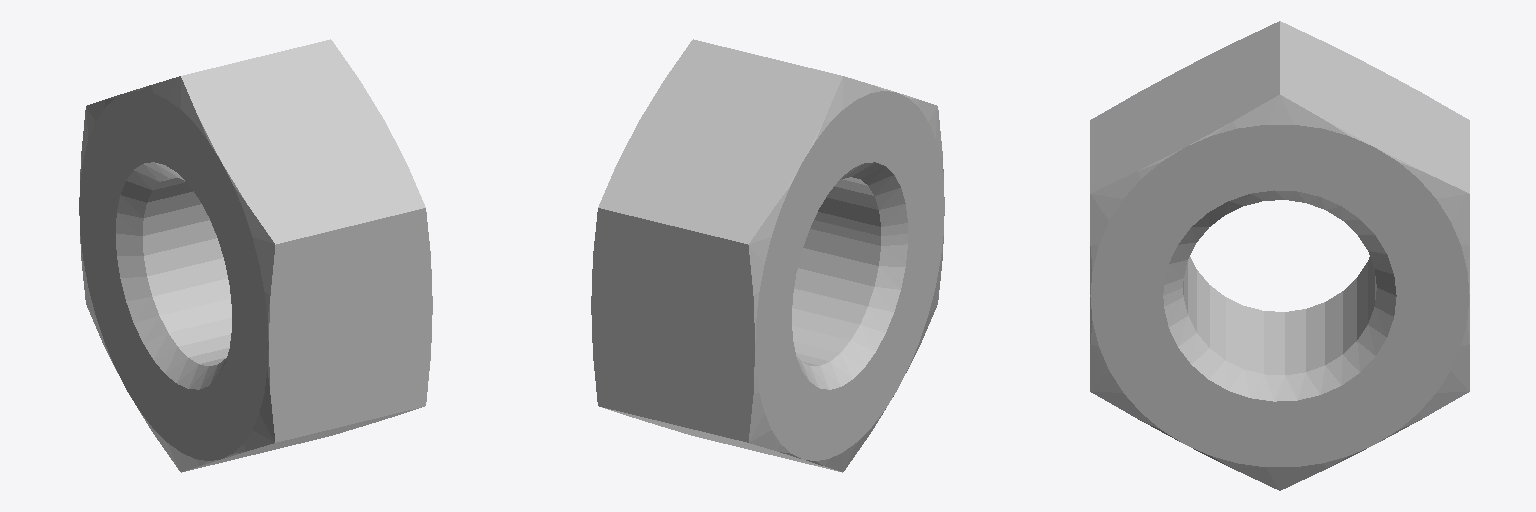
Rendered from Hexagon_nuts_M08.obj.
3 renders of one model, left to right at view 1: azimuth 30°, elevation 25°; view 2: azimuth 150°, elevation 25°; view 3: azimuth 270°, elevation 25°, orthographic.
Visible parts, largest first — view 1: 07210-08_1; view 2: 07210-08_1; view 3: 07210-08_1.
Boxes of the visible parts, box(x1,y1,x2,y2) form: 07210-08_1: box(79, 39, 432, 472); 07210-08_1: box(591, 39, 944, 472); 07210-08_1: box(1090, 21, 1469, 490).
Bounding box in the file's own units: 6.5 × 15.01 × 13.